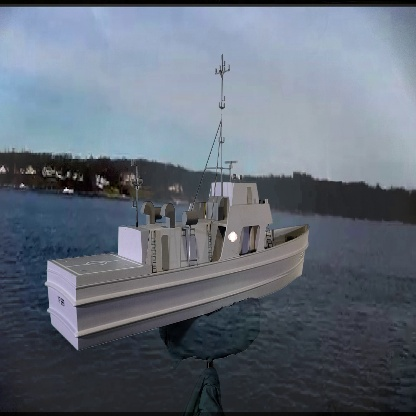YP689: (44, 53, 311, 354)
